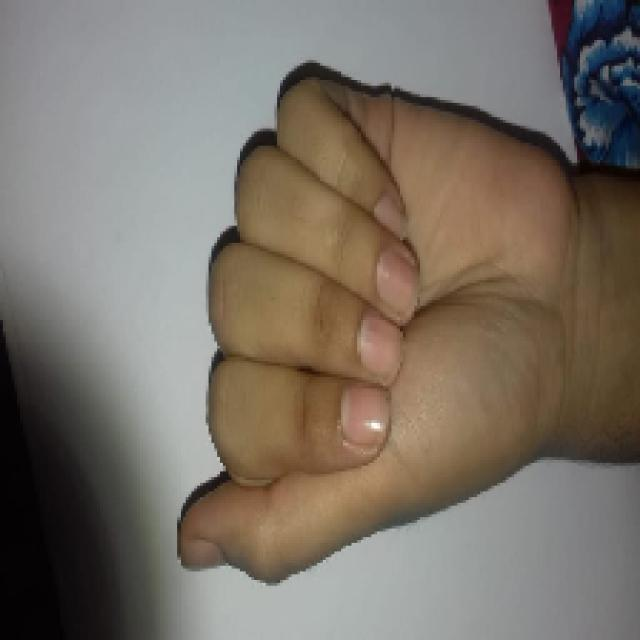Nail: (340, 382, 390, 447), (376, 250, 418, 312), (358, 318, 401, 376), (374, 194, 406, 240), (188, 540, 222, 566)
